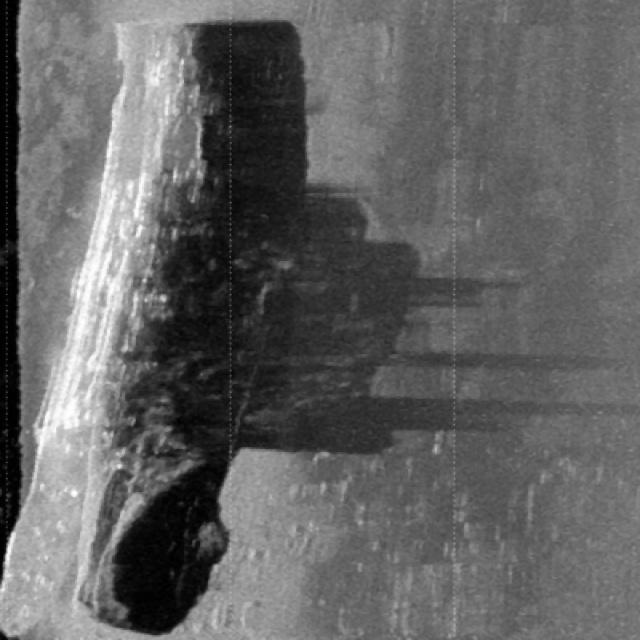Ship: (3, 0, 325, 640)
